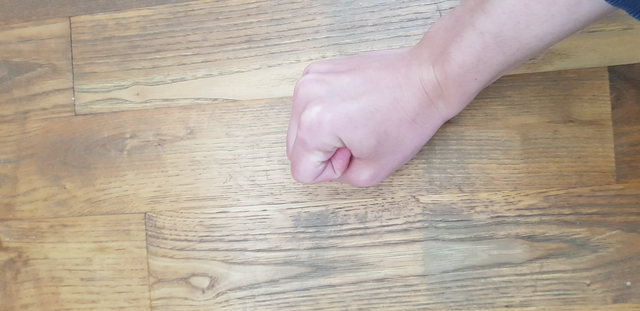Rock: (260, 41, 467, 203)
